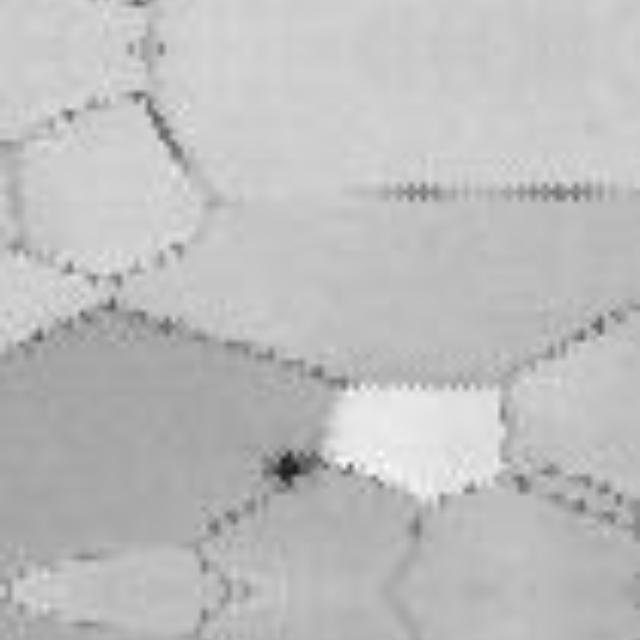good_void: (247, 445, 317, 497)
